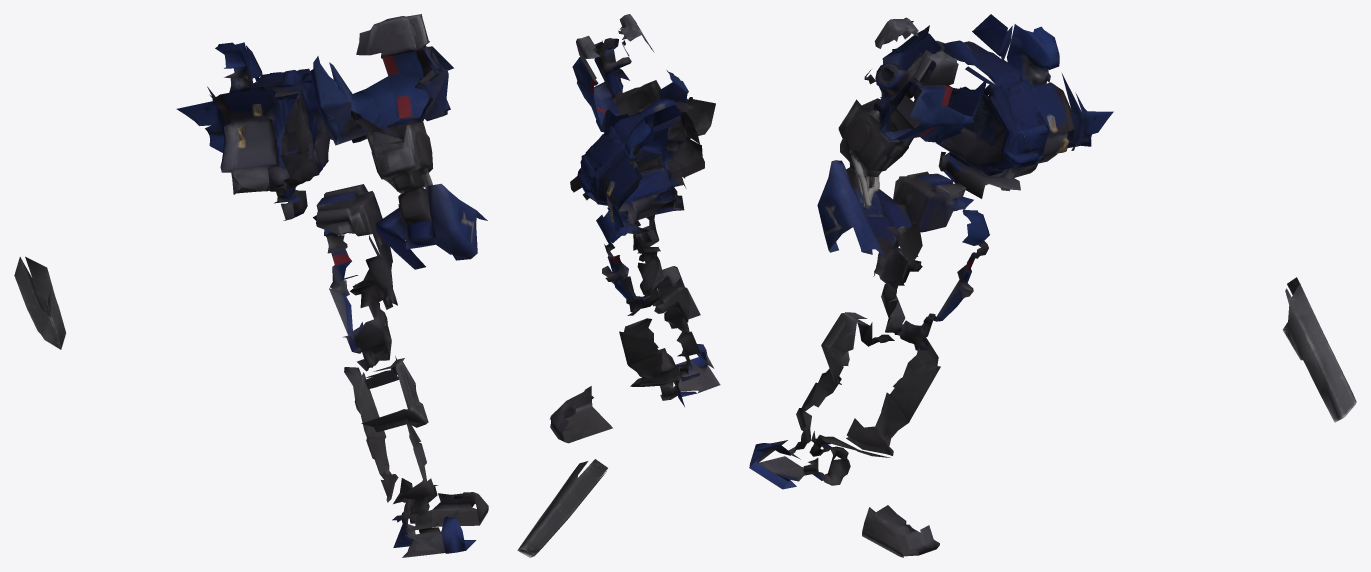
File: blue_body.glb
3 renders of one model, left to right at view 1: azimuth 30°, elevation 25°; view 2: azimuth 150°, elevation 25°; view 3: azimuth 270°, elevation 25°, orthographic. The views are drawn at different scales.
Visible parts, largest first — view 1: blue_body; view 2: blue_body; view 3: blue_body.
Part boxes in pixels (x1=…): blue_body: x1=14, y1=14, x2=488, y2=557; blue_body: x1=517, y1=14, x2=720, y2=557; blue_body: x1=749, y1=14, x2=1356, y2=557.
Bounding box in the file's own units: 2.42 × 4.44 × 4.89.
1 material, 1 textured.
